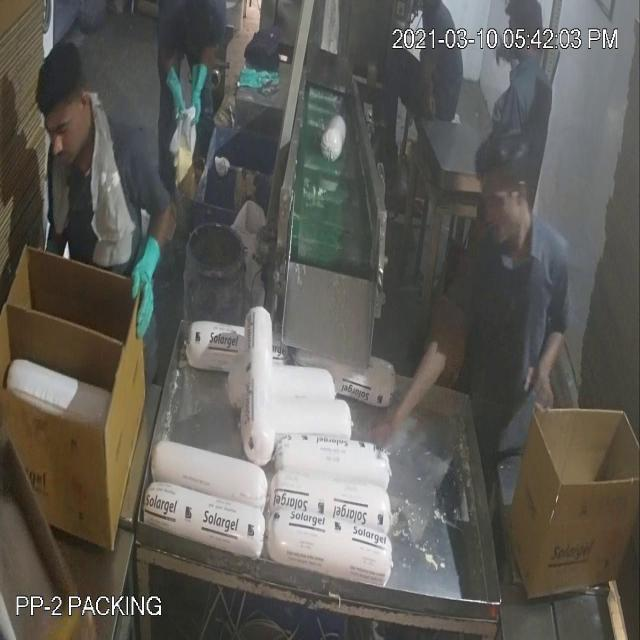No_Gloves: (21, 63, 546, 380)
